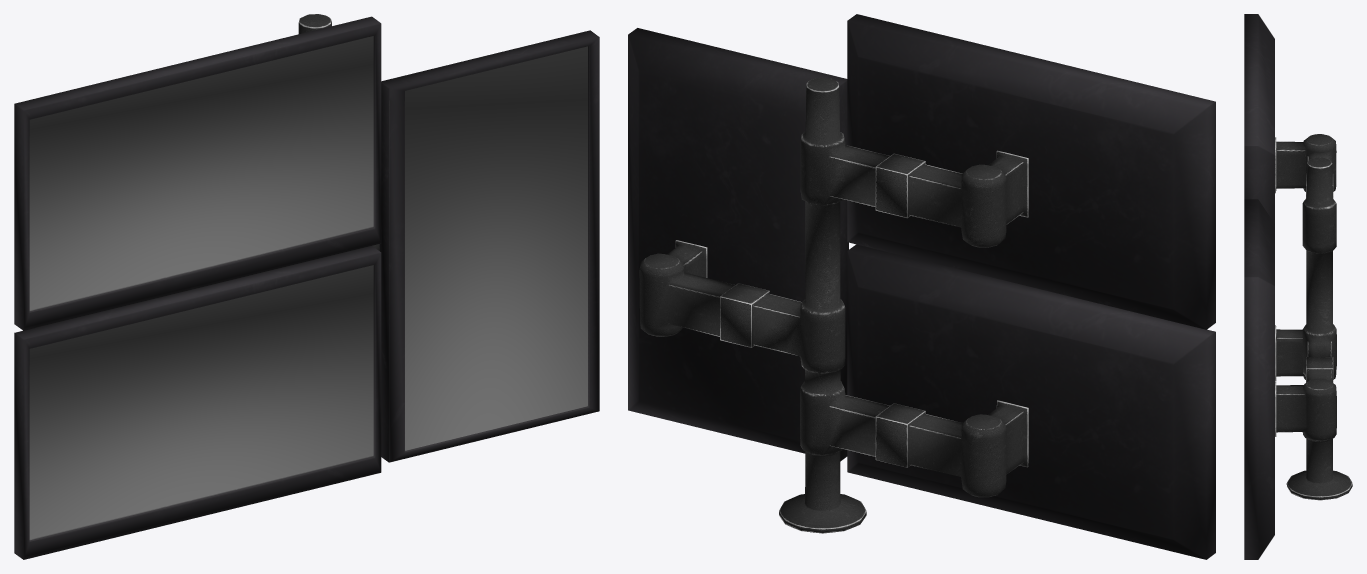
The model's file is TripleMonitor_RIGHT.fbx.
3 views of the same model, side by side, from view 1: azimuth 30°, elevation 25°; view 2: azimuth 150°, elevation 25°; view 3: azimuth 270°, elevation 25° (orthographic). The views are drawn at different scales.
Parts seen in each view (by area): view 1: TripleMonitor_R; view 2: TripleMonitor_R; view 3: TripleMonitor_R.
Part boxes in pixels (left/top/right/bottom): TripleMonitor_R: left=14, top=14, right=599, bottom=559; TripleMonitor_R: left=628, top=14, right=1215, bottom=559; TripleMonitor_R: left=1244, top=14, right=1352, bottom=559.
Size of the model in its own units: 101 by 76.84 by 21.8.
Materials: 2 (2 with a texture image).
